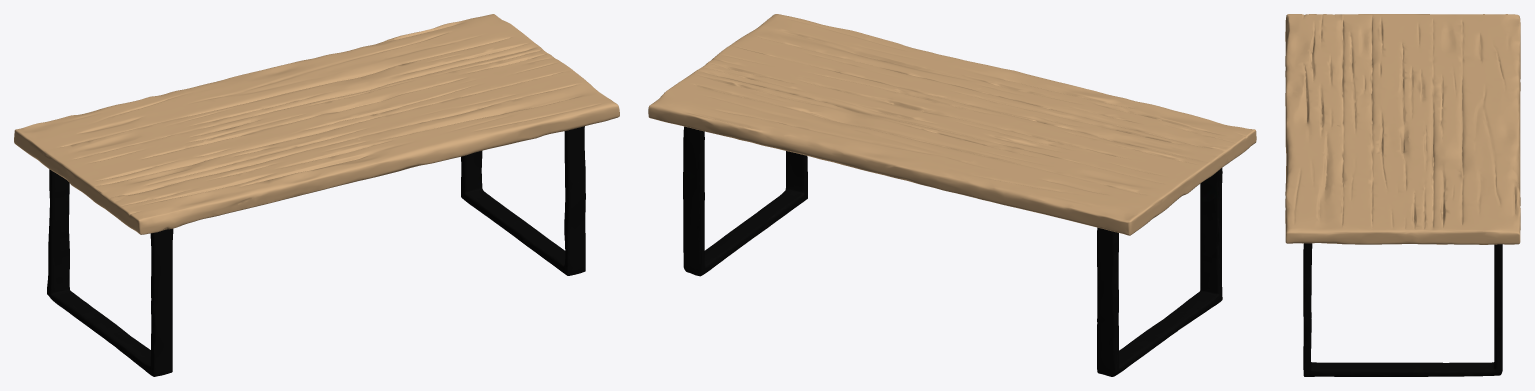
3 views of the same model, side by side, from view 1: azimuth 30°, elevation 25°; view 2: azimuth 150°, elevation 25°; view 3: azimuth 270°, elevation 25° (orthographic). The views are drawn at different scales.
Visible parts, largest first — view 1: tripo_node_e6c5321e-5549-4648-91b9-9fd9516e7ec8; view 2: tripo_node_e6c5321e-5549-4648-91b9-9fd9516e7ec8; view 3: tripo_node_e6c5321e-5549-4648-91b9-9fd9516e7ec8.
Part boxes in pixels (box(x1,y1,x2,y2)): tripo_node_e6c5321e-5549-4648-91b9-9fd9516e7ec8: box(14, 14, 619, 376); tripo_node_e6c5321e-5549-4648-91b9-9fd9516e7ec8: box(648, 14, 1256, 376); tripo_node_e6c5321e-5549-4648-91b9-9fd9516e7ec8: box(1285, 14, 1520, 376).
Size of the model in its own units: 2.22 by 0.75 by 1.01.
Materials: 2 (1 with a texture image).
